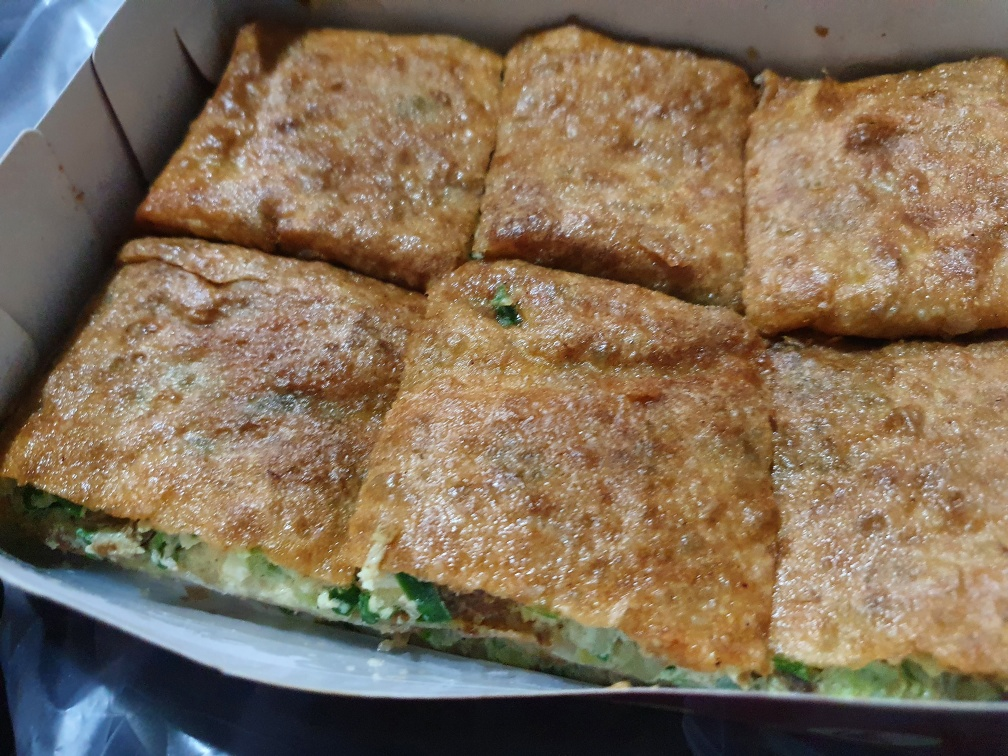martabak telor: (398, 263, 769, 682), (16, 243, 392, 616), (154, 14, 485, 270), (769, 341, 1008, 660), (473, 23, 737, 297), (739, 67, 1008, 308)
